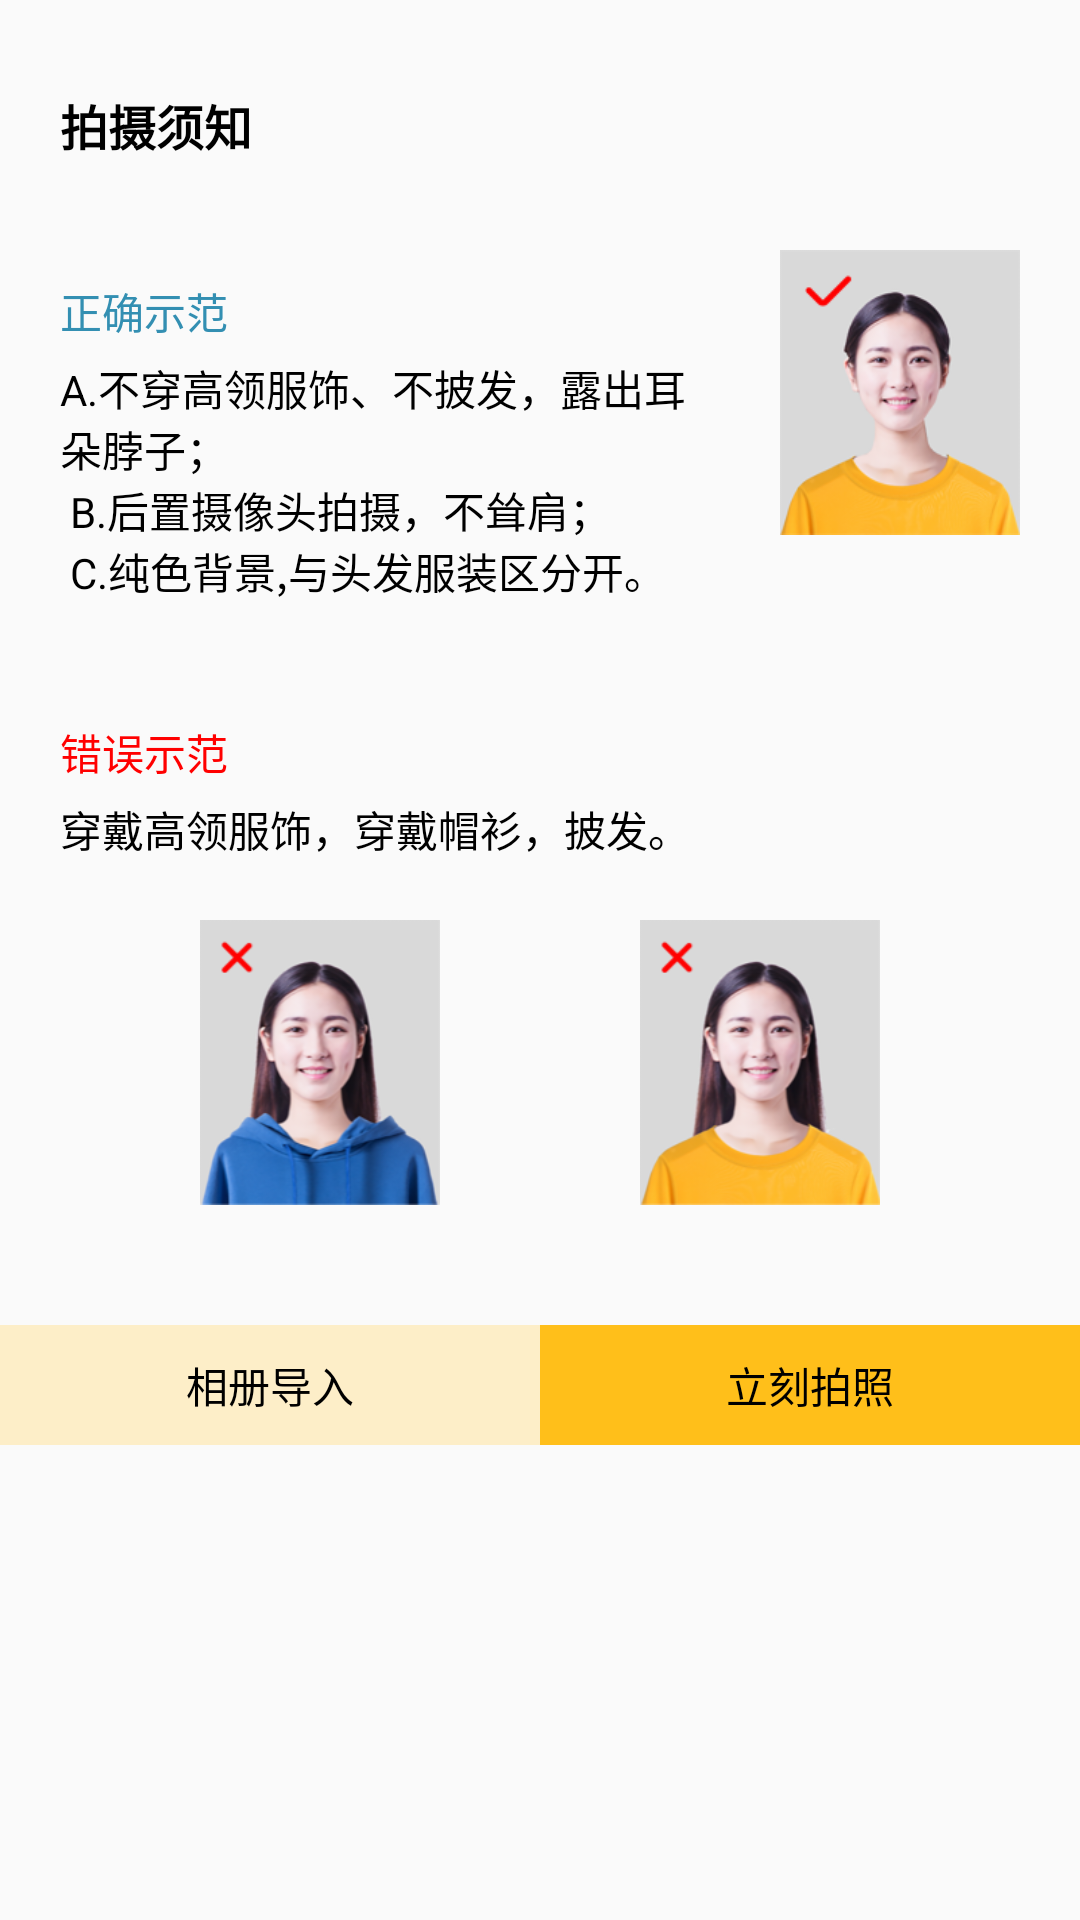

Point at icon controls on the screen. Image size 1080px x 1920px, points as point (x, y).
right pos: point (900, 392)
wrong pos: point (320, 1062), point (760, 1062)
